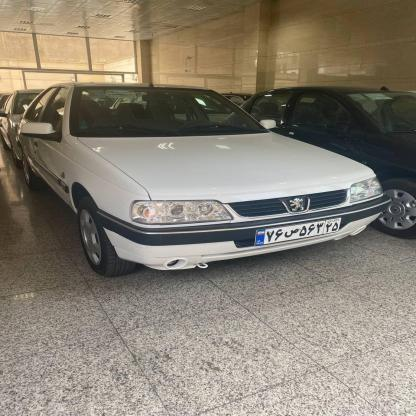Car: (17, 79, 382, 274), (261, 73, 416, 218)
